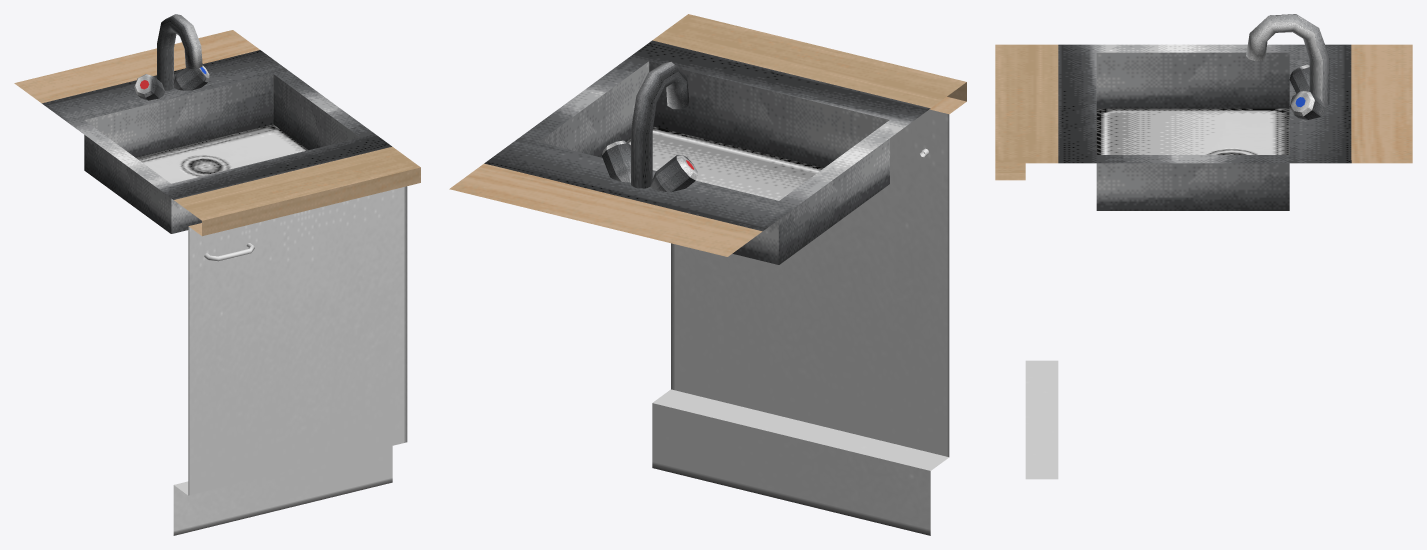
The model's file is Kitchen_Sink.fbx.
3 renders of one model, left to right at view 1: azimuth 30°, elevation 25°; view 2: azimuth 150°, elevation 25°; view 3: azimuth 270°, elevation 25°, orthographic. The views are drawn at different scales.
Visible parts, largest first — view 1: Cuisine_Evier.001; view 2: Cuisine_Evier.001; view 3: Cuisine_Evier.001.
Boxes of the visible parts, <box> form: Cuisine_Evier.001: <box>14,14,420,535</box>; Cuisine_Evier.001: <box>449,14,966,535</box>; Cuisine_Evier.001: <box>995,14,1412,479</box>.
Size of the model in its own units: 60 by 109 by 89.27.
